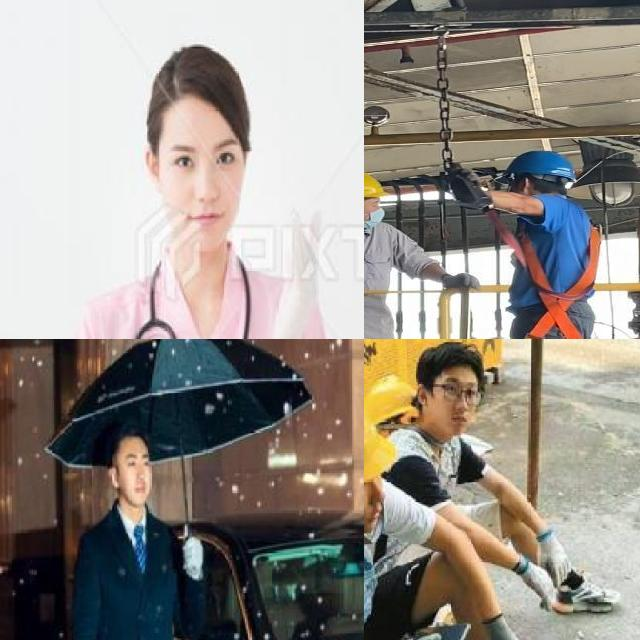Harness: (505, 203, 605, 339)
No_Glasses: (155, 135, 243, 177)
face_nomask: (156, 113, 235, 241), (433, 376, 476, 438), (364, 470, 396, 536), (123, 454, 156, 504)
glasses: (438, 381, 485, 409)
hand_glove: (275, 208, 322, 339), (522, 561, 556, 612), (538, 543, 572, 587), (182, 530, 203, 583)
head_helmet: (364, 376, 398, 485)
head_nohelmet: (135, 48, 253, 130), (423, 339, 494, 380), (108, 429, 154, 457)
person: (55, 50, 344, 339), (364, 339, 617, 632), (364, 364, 516, 640), (75, 419, 204, 640)
shoes: (546, 575, 620, 616)
